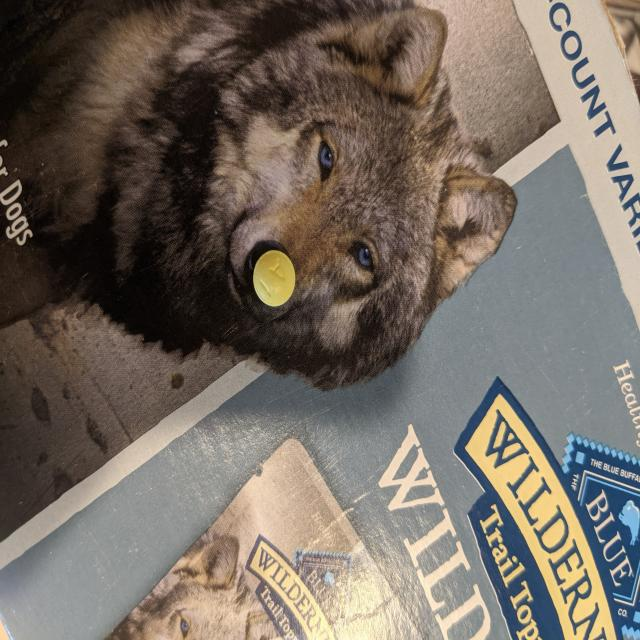non-organic waste: (253, 248, 296, 308)
